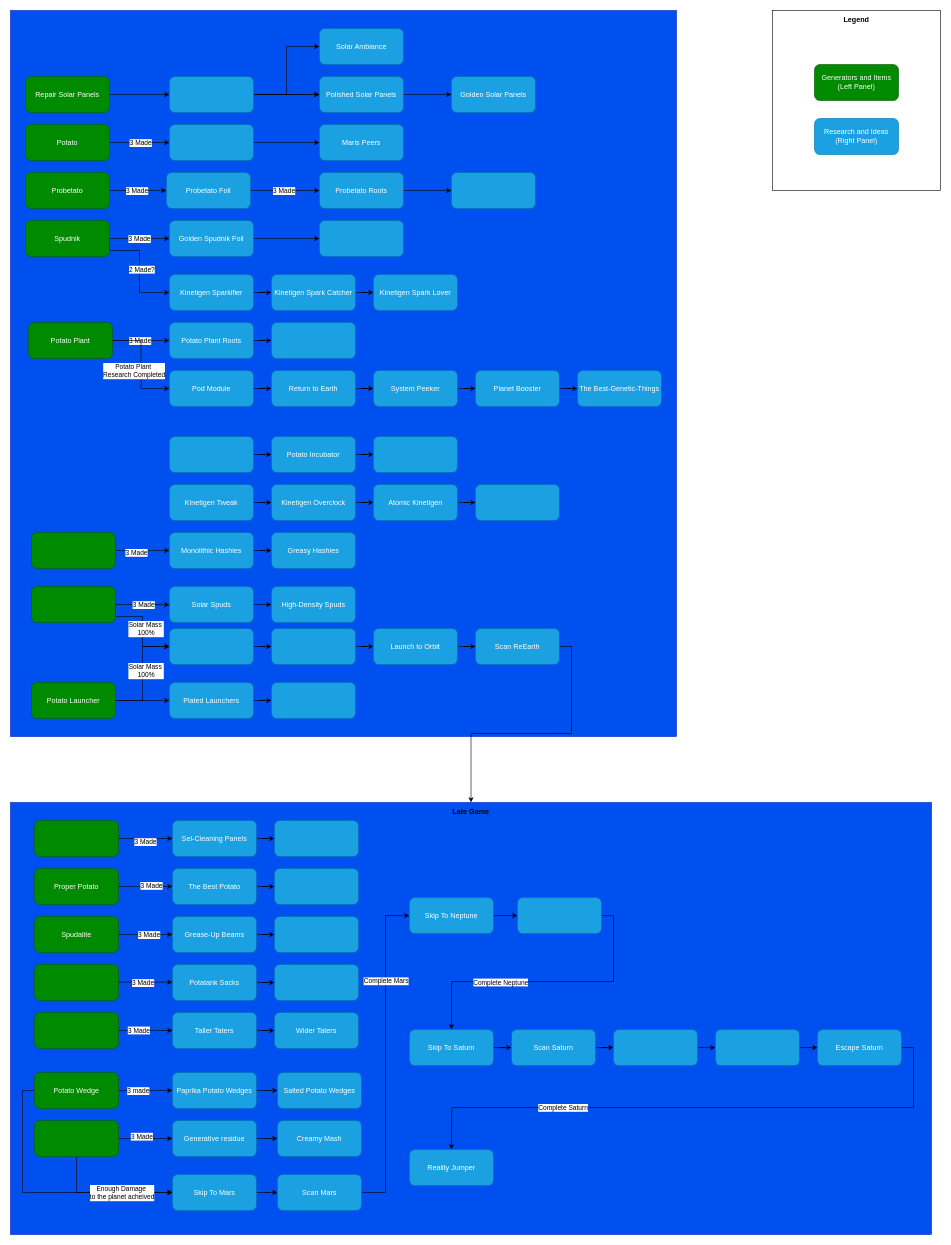
The diagram is 951 pixels wide and 1245 high, and some of its shapes have lost their labels. The shapes that lost their labels are listed below. From the top down, each one's box as (x1, y1, x2, y2) in pixels, then its label:
(169, 76, 254, 112): Clean Solar Panels
(169, 124, 254, 160): Maris Pipers
(451, 172, 536, 208): Probetato Planters
(319, 220, 404, 256): Graphene Spudnik Wings
(271, 322, 356, 358): Potato Plant Planters
(169, 436, 254, 472): Spud Incubator (Idle for 30 seconds out of game)
(373, 436, 458, 472): Tater Incubator
(475, 484, 560, 520): Super Kinetigen
(31, 532, 116, 568): Potato Tower
(31, 586, 116, 622): Spud Gun
(169, 628, 254, 664): Approach Hole
(271, 628, 356, 664): Return to ReEarth
(271, 682, 356, 718): Neutron Potatoes
(34, 820, 118, 856): Super Solar Panel
(274, 820, 358, 856): Auto Polishing Panels
(274, 868, 358, 904): Actually The Best Potatoes
(274, 916, 358, 952): Fan-Assisted Beams
(517, 897, 602, 934): Scan Neptune
(34, 964, 118, 1000): Potatank
(274, 964, 358, 1000): Potatank Baskets
(34, 1012, 118, 1048): Tall Tater
(613, 1029, 698, 1066): Enter Saturn
(715, 1029, 800, 1066): Scan Saturn Again
(34, 1120, 118, 1156): Planet Masher
